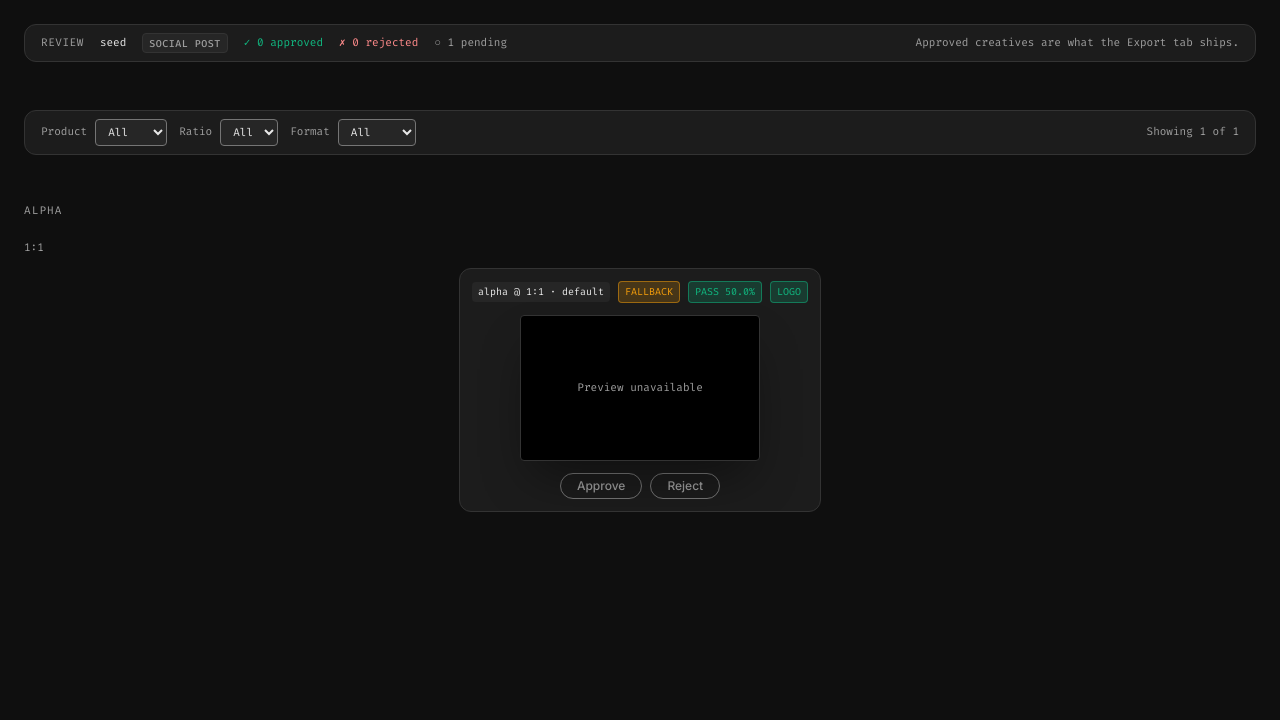
it: GridPage › a decision another tab beat to the server shows the server's decisions and says why (D173, D82)
The width and height of the screenshot is (1280, 720).
Click the button "Approve" at (601, 486), box [560,473,642,499]
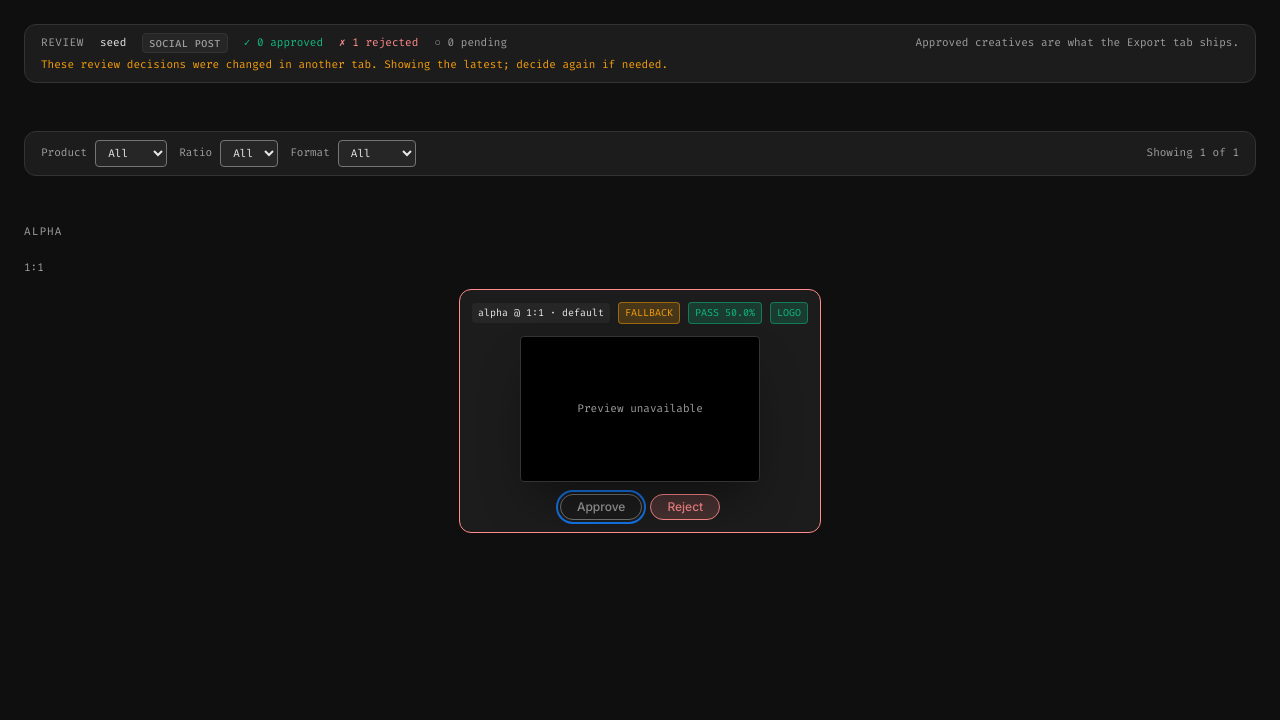
Expected: the text "✓ 0 approved" is shown, [244,35,323,51]
Result: the message shows "These review decisions were changed in another tab. Showing the latest; decide again if needed." at [41,57,668,72]
Result: the text "✗ 1 rejected" is shown at [339,35,418,51]
